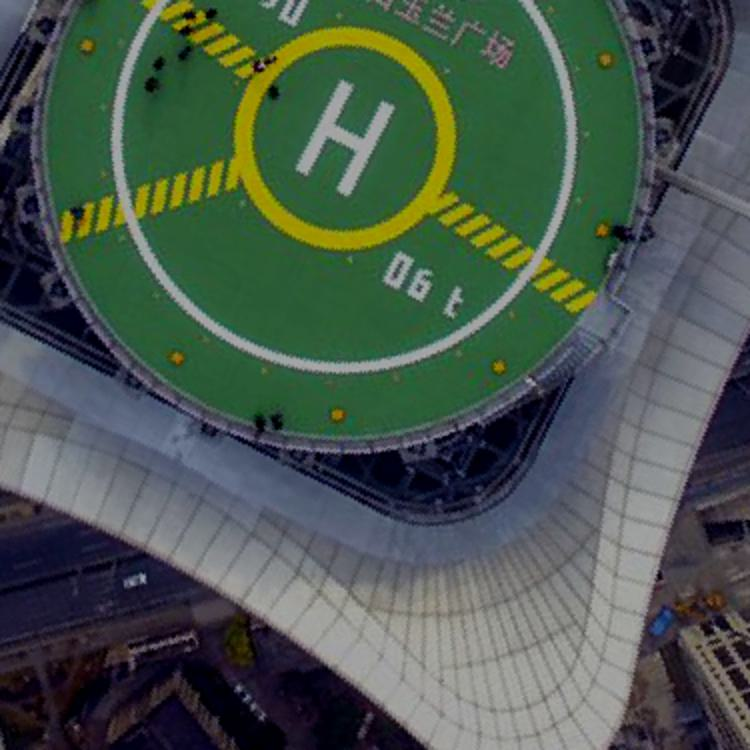Apron: (215, 35, 470, 257)
